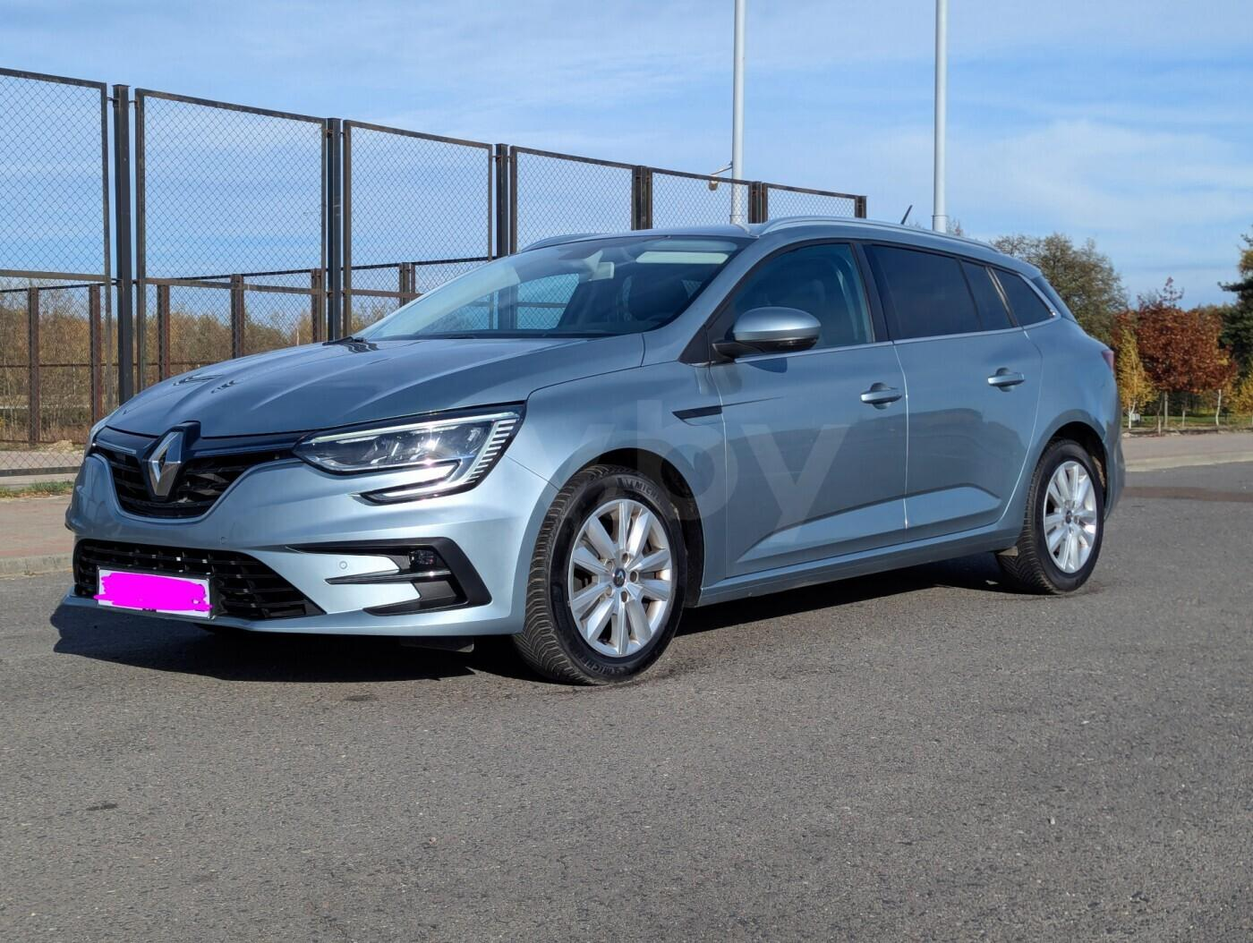Megane_2020: (64, 212, 1129, 672)
